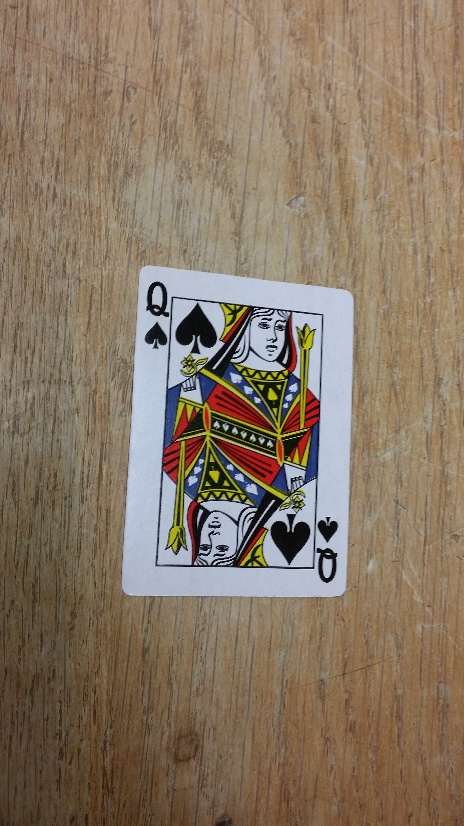Sq: (142, 272, 170, 355), (314, 510, 342, 585)
